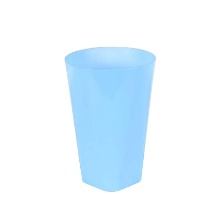glass: (59, 39, 158, 201)
